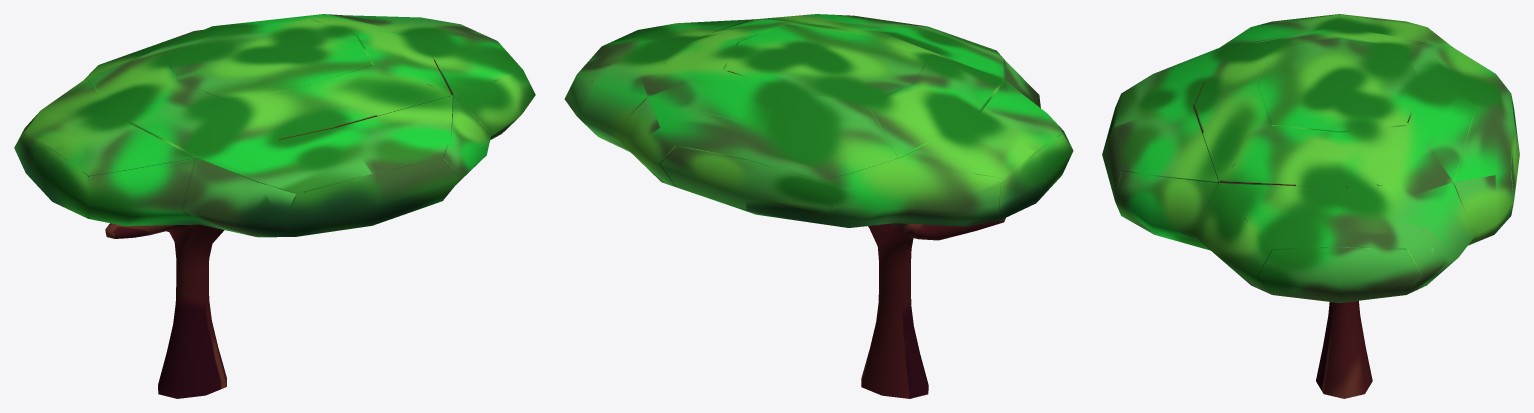
The model's file is tree.obj.
3 views of the same model, side by side, from view 1: azimuth 30°, elevation 25°; view 2: azimuth 150°, elevation 25°; view 3: azimuth 270°, elevation 25° (orthographic). The views are drawn at different scales.
Visible parts, largest first — view 1: Cube; view 2: Cube; view 3: Cube.
Boxes of the visible parts, left/top/right/bottom form: Cube: left=14, top=14, right=535, bottom=398; Cube: left=564, top=14, right=1073, bottom=398; Cube: left=1102, top=14, right=1519, bottom=398.
Size of the model in its own units: 3.38 by 2.17 by 2.44.
